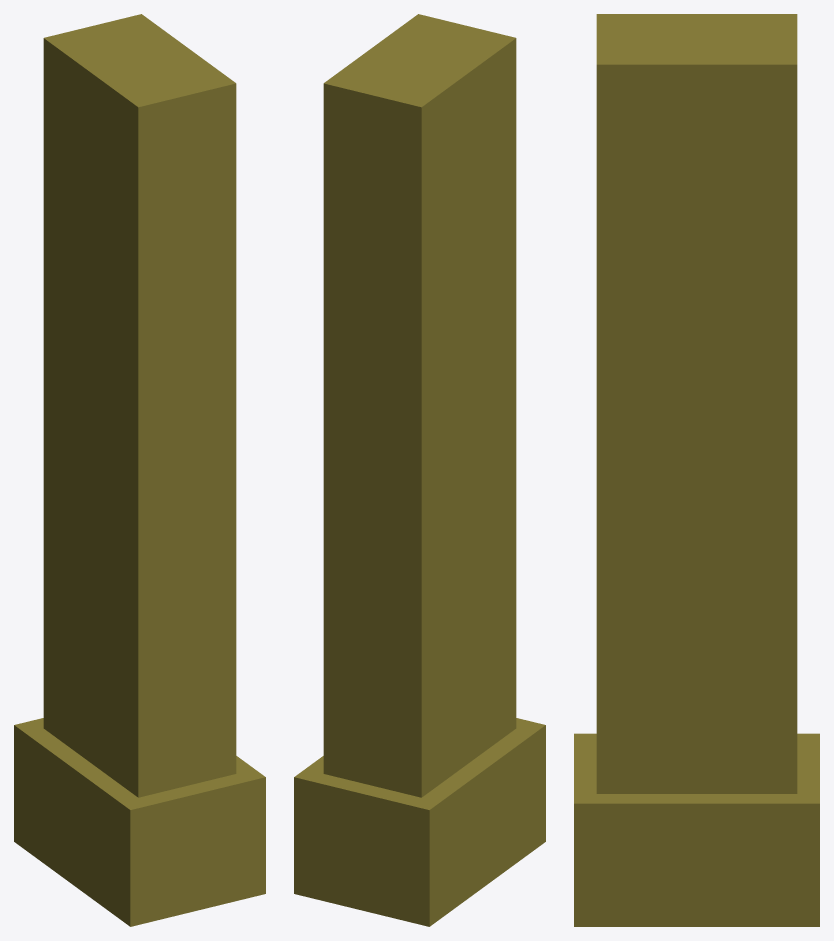
Rendered from Magazine_5.fbx.
3 views of the same model, side by side, from view 1: azimuth 30°, elevation 25°; view 2: azimuth 150°, elevation 25°; view 3: azimuth 270°, elevation 25° (orthographic). The views are drawn at different scales.
Parts seen in each view (by area): view 1: Magazine_5; view 2: Magazine_5; view 3: Magazine_5.
Boxes of the visible parts, bbox=[...] form: Magazine_5: bbox=[14, 14, 265, 926]; Magazine_5: bbox=[294, 14, 545, 926]; Magazine_5: bbox=[574, 14, 819, 926].
Bounding box in the file's own units: 0.1507 × 0.8586 × 0.2243.
